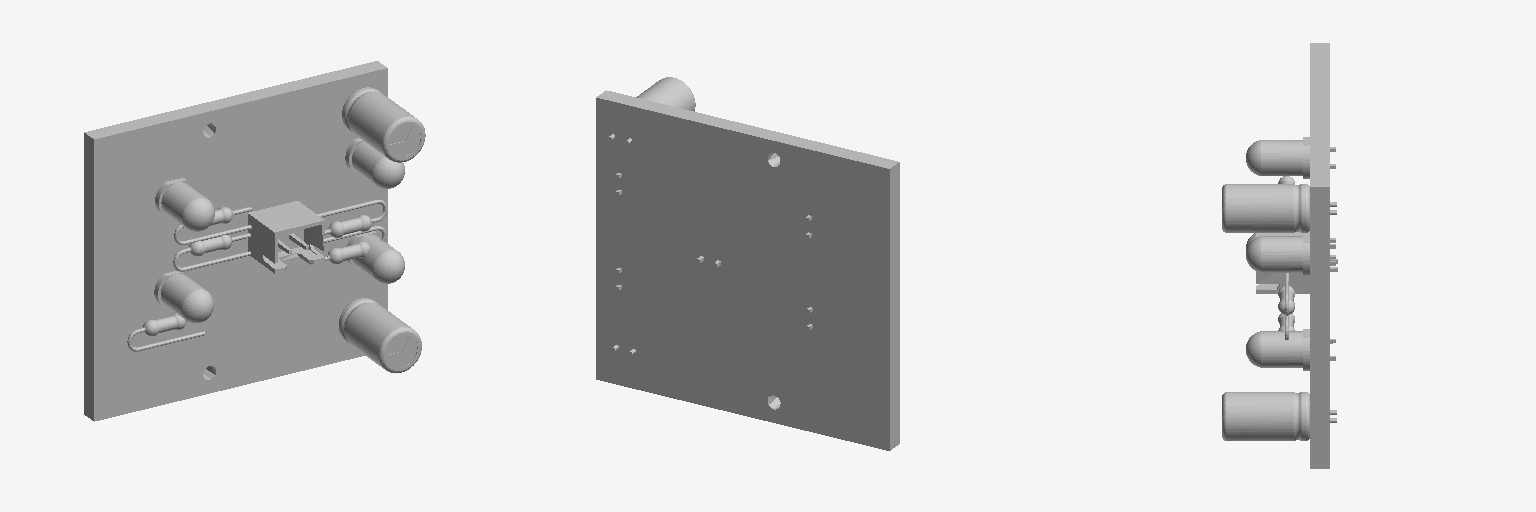
The model's file is OBJ_PCB_Netta_games.obj.
3 views of the same model, side by side, from view 1: azimuth 30°, elevation 25°; view 2: azimuth 150°, elevation 25°; view 3: azimuth 270°, elevation 25° (orthographic).
Visible parts, largest first — view 1: Object.1, Object.2; view 2: Object.1; view 3: Object.1.
Boxes of the visible parts, box(x1,y1,x2,y2) form: Object.1: box(84, 61, 425, 421); Object.2: box(127, 313, 204, 351); Object.1: box(596, 77, 899, 450); Object.1: box(1222, 43, 1337, 468).
Size of the model in its own units: 170 by 156 by 57.87.